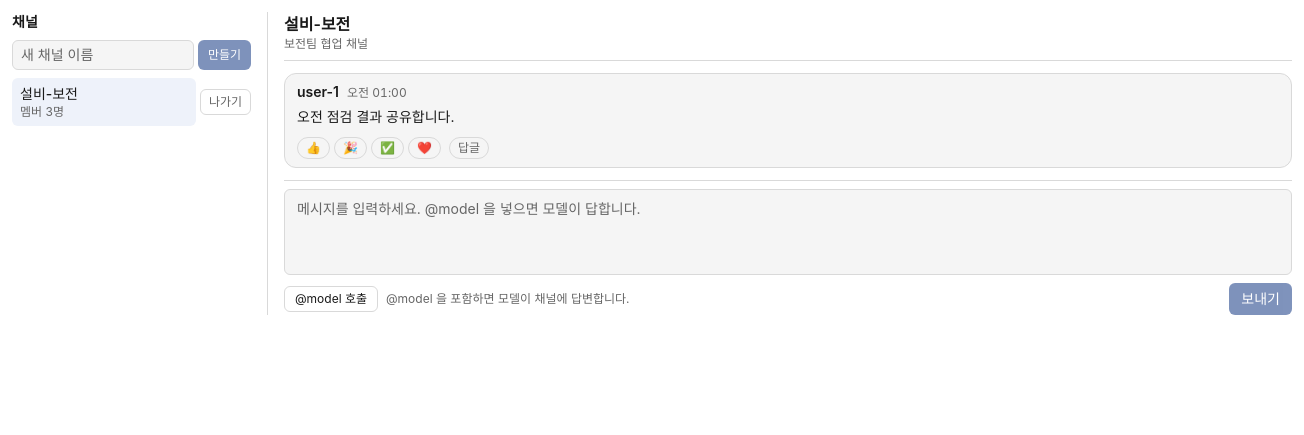
Test case: ChannelsWorkspace › 메시지를 전송하면 목록에 나타나고 컴포저가 비워진다
Expected: the text "오전 점검 결과 공유합니다." is shown, [297,108,454,125]
Step 1. Type "3호기 확인하겠습니다." into the text box named "메시지 입력" → [788, 232], box [284,189,1292,275]
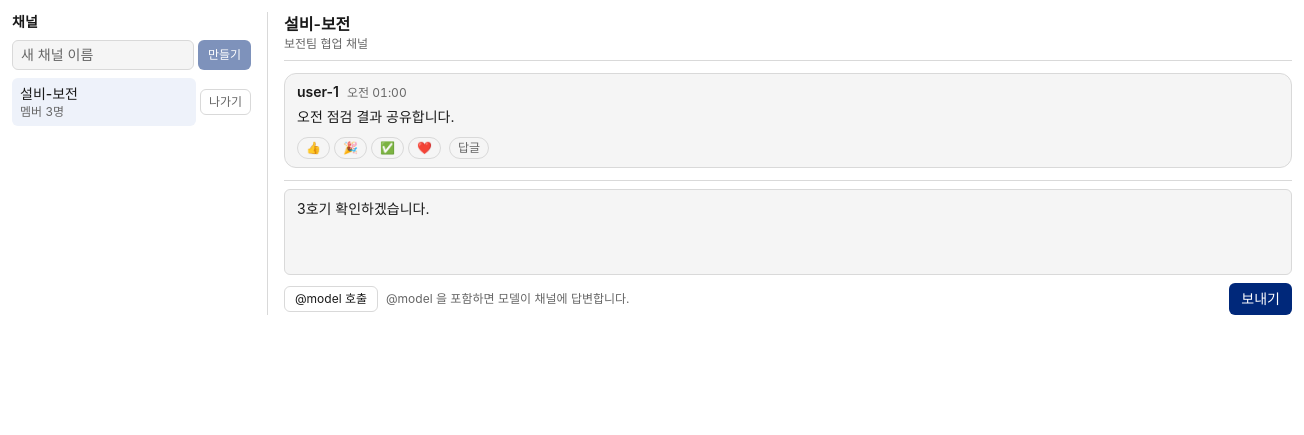
Step 2. Click the button with test id "channel-send" → [1261, 299], box [1229,283,1292,315]
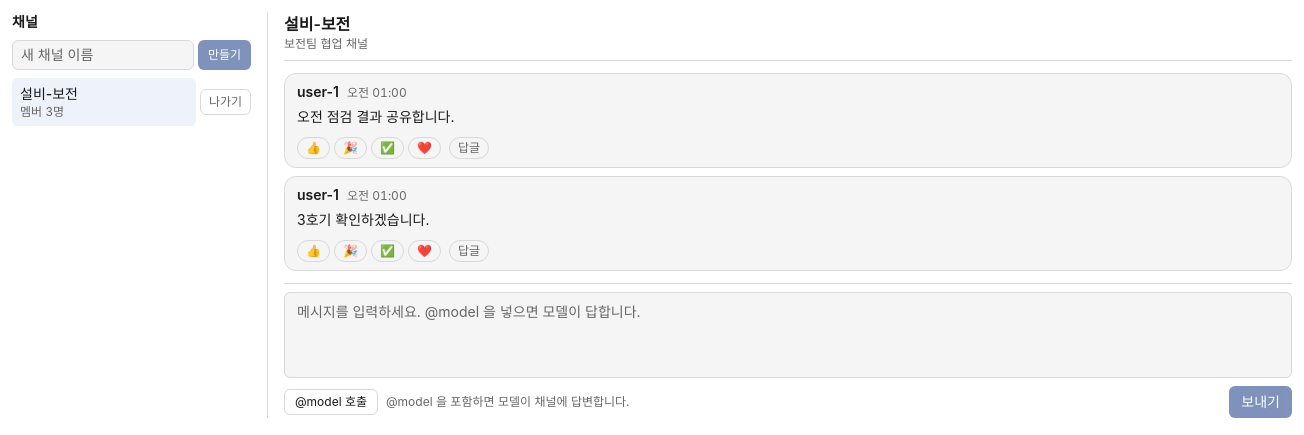
Now the text "3호기 확인하겠습니다." is shown, box [297,211,430,228]
Now the text box named "메시지 입력" is empty, box [284,292,1292,378]
